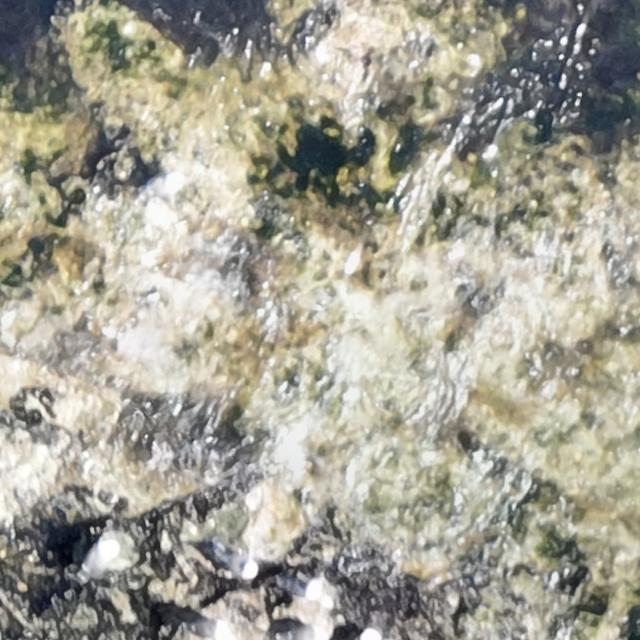umineko: (76, 538, 120, 582), (209, 542, 259, 578), (274, 568, 325, 602), (188, 614, 230, 636)
